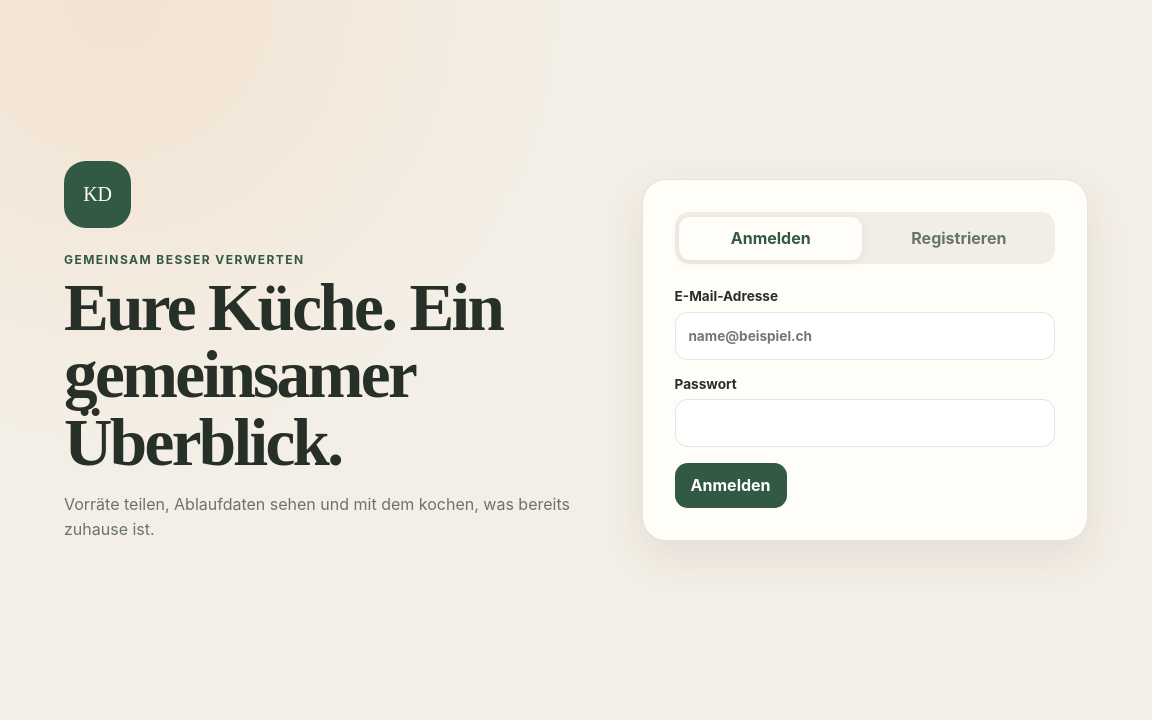
it: Anmeldung › prüft das starke Passwort bereits vor Supabase
Click the tab "Registrieren" at (959, 238), box left=868, top=217, right=1050, bottom=260
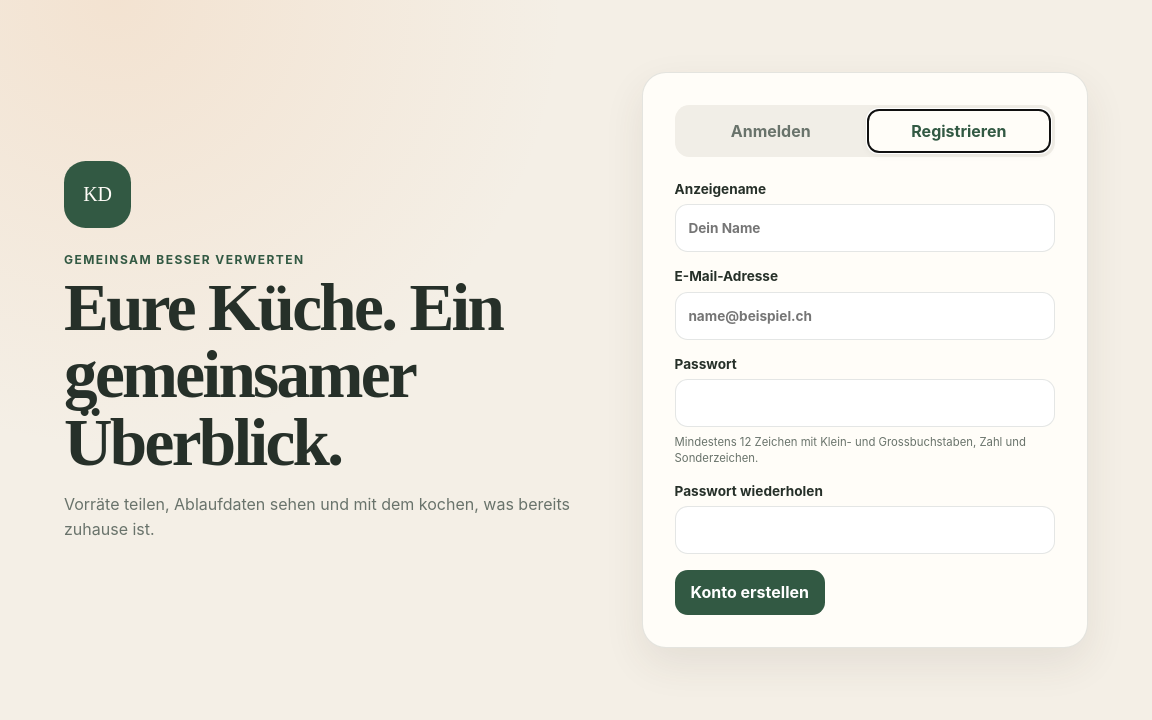
Type "Anna" into the field labelled "Anzeigename" at (865, 228), box left=675, top=204, right=1055, bottom=252
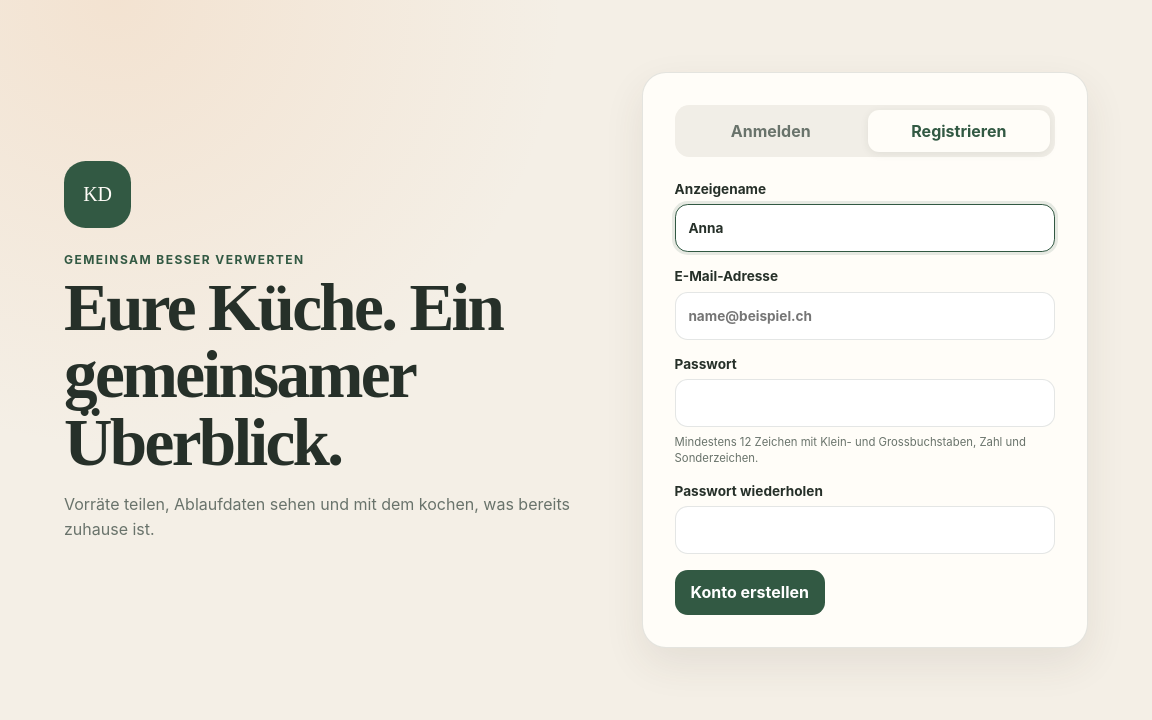
Type "anna@example.com" into the field labelled "E-Mail-Adresse" at (865, 316), box left=675, top=292, right=1055, bottom=340
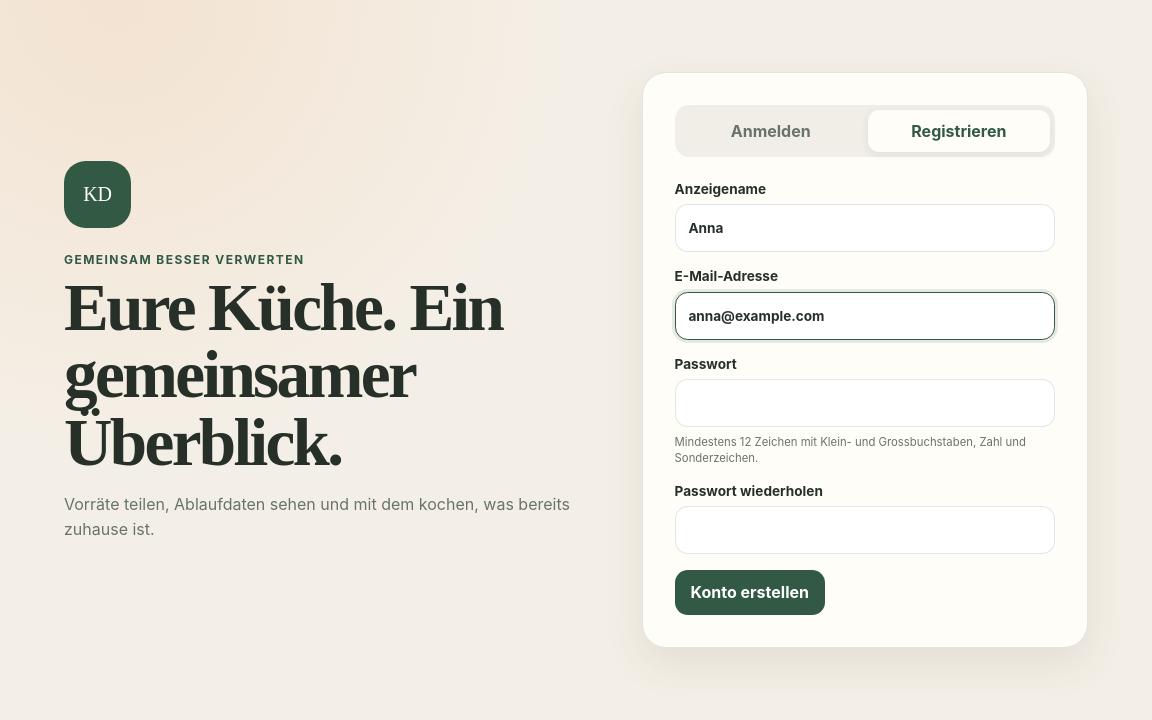
Type "zu-schwach" into the password field labelled "Passwort" at (865, 403), box left=675, top=379, right=1055, bottom=427
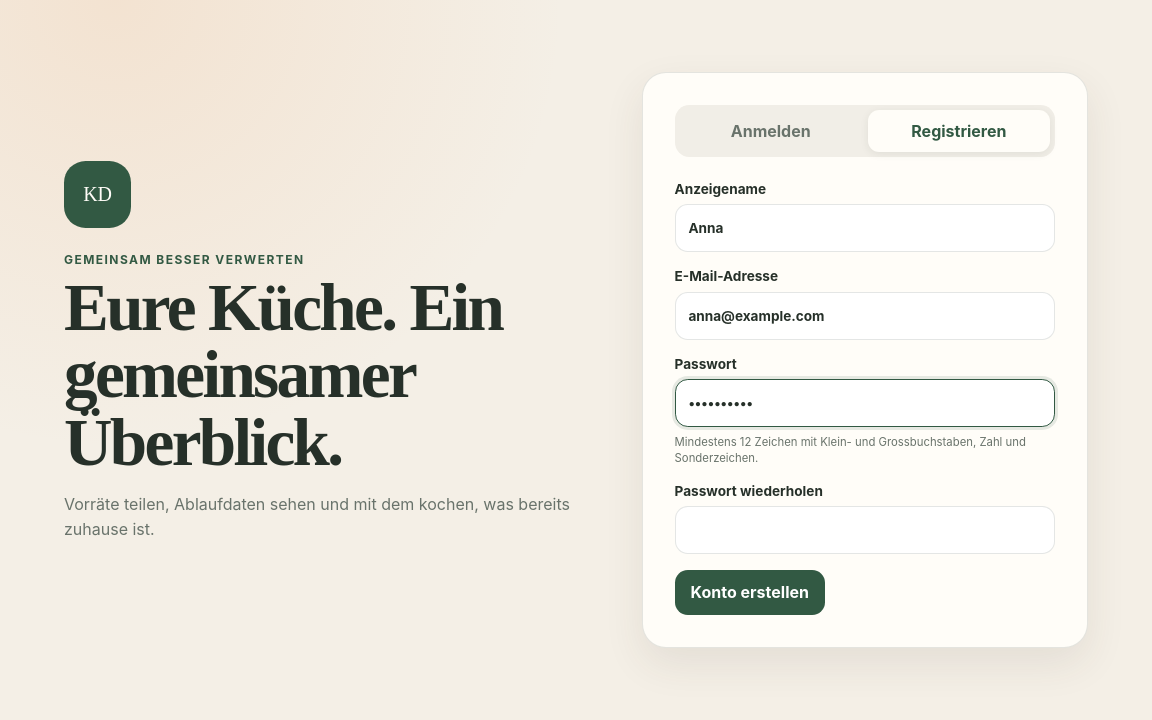
Type "zu-schwach" into the password field labelled "Passwort wiederholen" at (865, 530), box left=675, top=506, right=1055, bottom=554
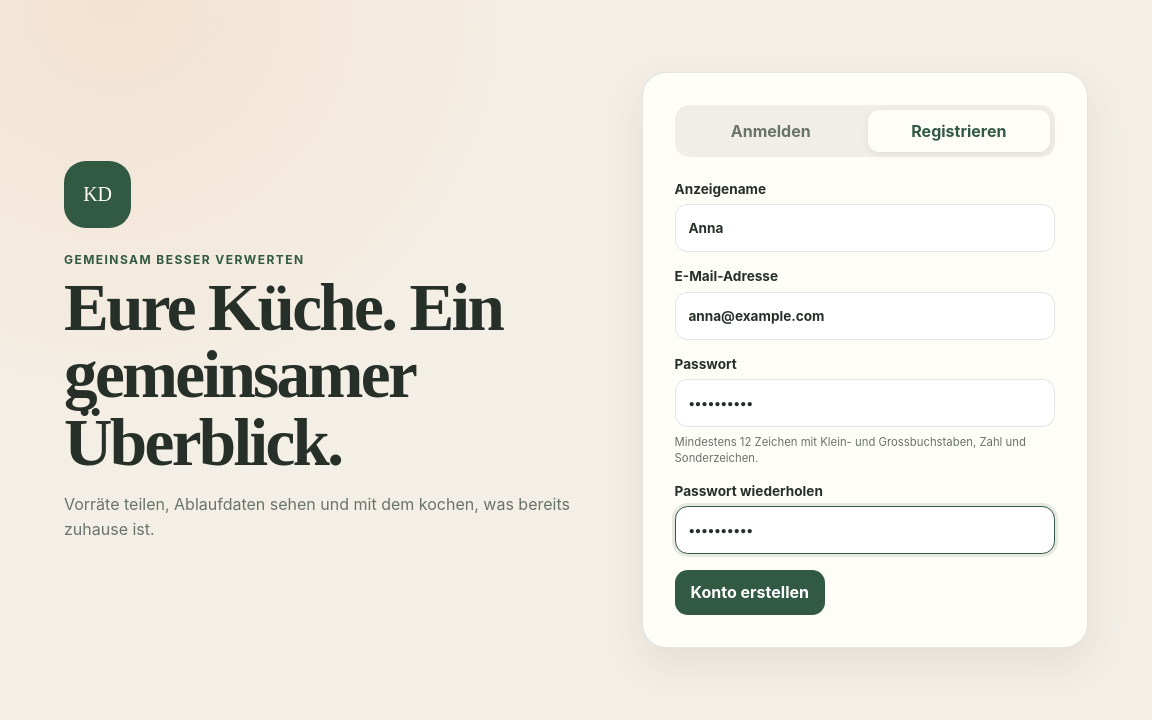
Click the button "Konto erstellen" at (750, 592), box left=675, top=570, right=825, bottom=615
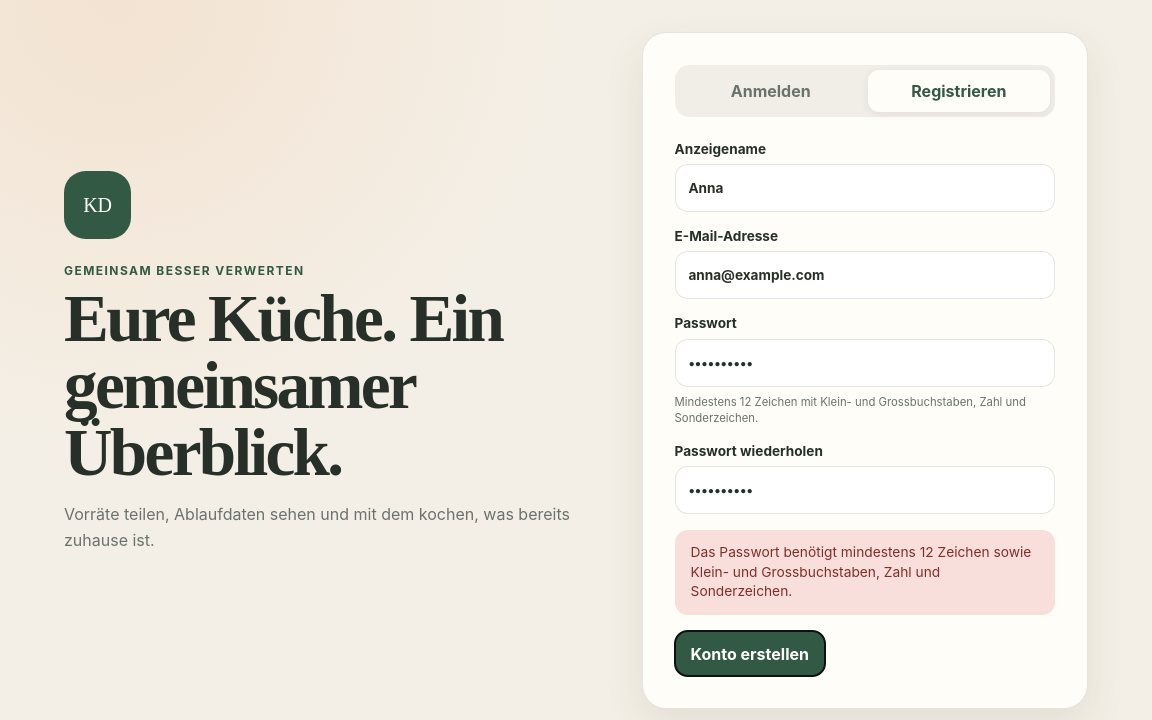
Expected: the message shows "mindestens 12 Zeichen", left=691, top=544, right=1031, bottom=599
